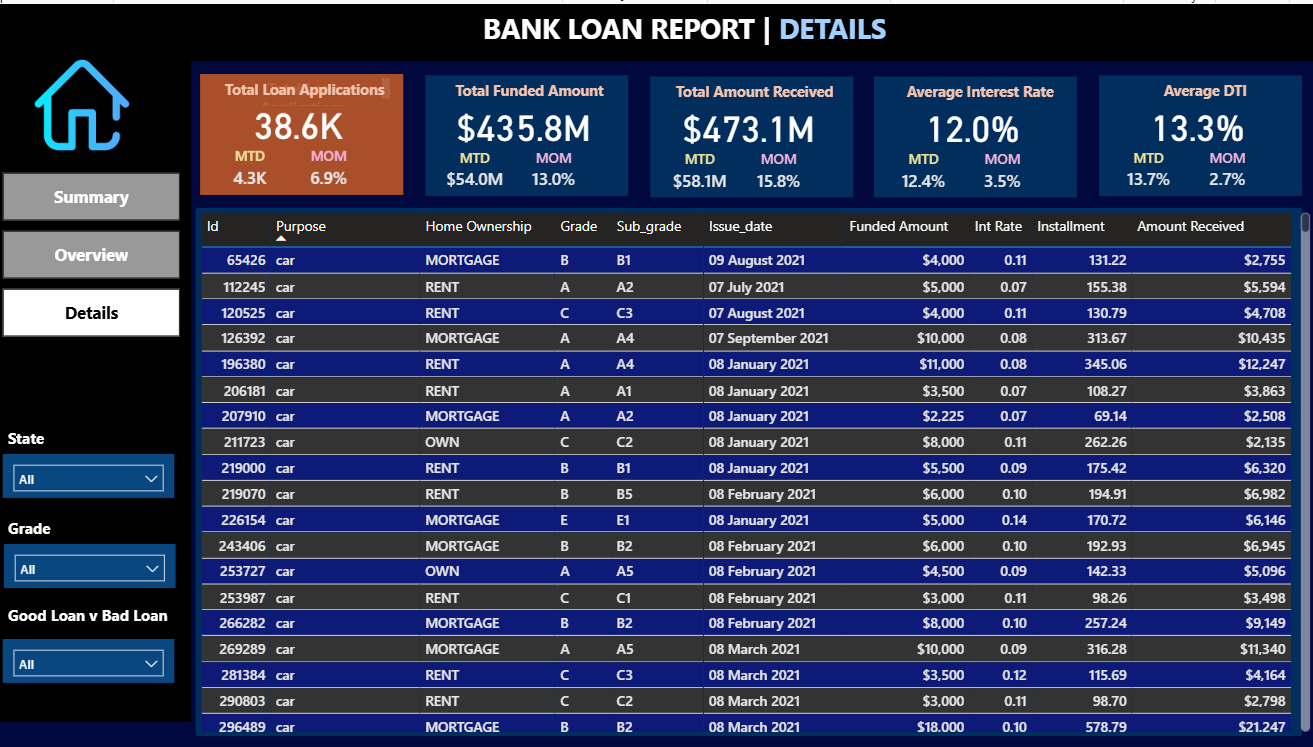

Layout of this report page (visuals, bound fields, positions):
{"tool":"powerbi","page":{"name":"Details","canvas":[1280,720],"ordinal":2},"visuals":[{"type":"shape","box":[0,0,1280.6,55.6],"z":0},{"type":"shape","box":[0,27.7,195.4,664.7],"z":1000},{"type":"textbox","box":[464.5,0,462.1,47.1],"z":2000},{"type":"group","id":"g1","title":"Group 1","box":[203.9,66.9,195.8,117.3],"z":3000},{"type":"shape","box":[203.9,67.6,195.8,116.7],"z":3000,"group":"g1"},{"type":"shape","box":[203.9,67.6,195.8,116.7],"z":3000,"group":"g6"},{"type":"shape","box":[420.7,68.8,195.8,116.7],"z":3000,"group":"g2"},{"type":"shape","box":[1071.3,68.8,195.8,116.7],"z":3000,"group":"g5"},{"type":"shape","box":[637.6,70,195.8,116.7],"z":3000,"group":"g3"},{"type":"shape","box":[854.5,70,195.8,116.7],"z":3000,"group":"g4"},{"type":"group","id":"g2","title":"Group 1","box":[420.7,68.8,196.6,117],"z":4000},{"type":"card","fields":{"Values":["banking_loan.Total Loan Applications"]},"box":[217.8,94,161.1,43.1],"z":4000,"group":"g1"},{"type":"card","fields":{"Values":["banking_loan.Total Loan Applications"]},"box":[217.8,94,161.1,43.1],"z":4000,"group":"g6"},{"type":"card","fields":{"Values":["banking_loan.Total Funded Amount"]},"box":[434.6,95.2,161.1,43.1],"z":4000,"group":"g2"},{"type":"card","fields":{"Values":["banking_loan.Average Dti"]},"box":[1085.2,95.2,161.1,43.1],"z":4000,"group":"g5"},{"type":"card","fields":{"Values":["banking_loan.Total Amount Received"]},"box":[651.5,96.4,161.1,43.1],"z":4000,"group":"g3"},{"type":"card","fields":{"Values":["banking_loan.Avg Interest Rate"]},"box":[868.4,96.4,161.1,43.1],"z":4000,"group":"g4"},{"type":"textbox","box":[220.9,66.9,171.3,37.4],"z":5000,"group":"g1"},{"type":"textbox","box":[217.8,67.6,172.2,37.5],"z":5000,"group":"g6"},{"type":"textbox","box":[434.6,68.8,172.2,37.5],"z":5000,"group":"g2"},{"type":"textbox","box":[1085.2,68.8,172.2,37.5],"z":5000,"group":"g5"},{"type":"textbox","box":[651.5,70,172.2,37.5],"z":5000,"group":"g3"},{"type":"textbox","box":[868.4,70,172.2,37.5],"z":5000,"group":"g4"},{"type":"shape","box":[199.1,196.6,1068.9,510.3],"z":5000},{"type":"group","id":"g3","title":"Group 1","box":[637.6,70,196.6,117],"z":6000},{"type":"card","title":"MTD","fields":{"Values":["banking_loan.MTD Loan Applications"]},"box":[217.8,137,66.7,47.2],"z":6000,"group":"g1"},{"type":"card","title":"MTD","fields":{"Values":["banking_loan.MTD Loan Applications"]},"box":[217.8,137,66.7,47.2],"z":6000,"group":"g6"},{"type":"card","title":"MTD","fields":{"Values":["banking_loan.MTD Funded Amount"]},"box":[434.6,138.2,66.7,47.2],"z":6000,"group":"g2"},{"type":"card","title":"MTD","fields":{"Values":["banking_loan.MTD Avg Dti"]},"box":[1085.2,138.2,66.7,47.2],"z":6000,"group":"g5"},{"type":"card","title":"MTD","fields":{"Values":["banking_loan.MTD Total Amount Received"]},"box":[651.5,139.4,66.7,47.2],"z":6000,"group":"g3"},{"type":"card","title":"MTD","fields":{"Values":["banking_loan.MTD Avg Interest Rate"]},"box":[868.4,139.4,66.7,47.2],"z":6000,"group":"g4"},{"type":"group","id":"g4","title":"Group 1","box":[854.5,70,196.6,117],"z":7000},{"type":"card","title":"MOM","fields":{"Values":["banking_loan.MOM Loan Applications"]},"box":[298.3,137,59.7,47.2],"z":7000,"group":"g1"},{"type":"card","title":"MOM","fields":{"Values":["banking_loan.MOM Loan Applications"]},"box":[298.3,137,59.7,47.2],"z":7000,"group":"g6"},{"type":"card","title":"MOM","fields":{"Values":["banking_loan.MOM Funded Amount"]},"box":[515.1,138.2,59.7,47.2],"z":7000,"group":"g2"},{"type":"card","title":"MOM","fields":{"Values":["banking_loan.MOM Avg Dti"]},"box":[1165.7,138.2,59.7,47.2],"z":7000,"group":"g5"},{"type":"card","title":"MOM","fields":{"Values":["banking_loan.MOM Total Amount Received"]},"box":[732,139.4,59.7,47.2],"z":7000,"group":"g3"},{"type":"card","title":"MOM","fields":{"Values":["banking_loan.MOM Avg Interest Rate"]},"box":[948.9,139.4,59.7,47.2],"z":7000,"group":"g4"},{"type":"group","id":"g5","title":"Group 1","box":[1071.3,68.8,196.6,117],"z":8000},{"type":"group","id":"g6","title":"Group 1","box":[203.9,67.6,196.6,117],"z":9000},{"type":"textbox","box":[13.3,404.2,127.9,30.2],"z":10000},{"type":"slicer","fields":{"Values":["banking_loan.address_state"]},"box":[13.3,434.3,165.3,42.2],"z":11000},{"type":"slicer","fields":{"Values":["banking_loan.grade"]},"box":[14.5,521.2,165.3,42.2],"z":12000},{"type":"textbox","box":[13.3,491,142.4,41],"z":13000},{"type":"slicer","fields":{"Values":["banking_loan.Good vs Bad Loan"]},"box":[13.3,612.9,165.3,42.2],"z":14000},{"type":"textbox","box":[13.3,574.3,165.3,50.7],"z":15000},{"type":"tableEx","fields":{"Values":["banking_loan.id","banking_loan.purpose","banking_loan.home_ownership","banking_loan.grade","banking_loan.sub_grade","banking_loan.issue_date","banking_loan.Total Funded Amount","Sum(banking_loan.int_rate)","Sum(banking_loan.installment)","banking_loan.Total Amount Received"]},"box":[199.1,196.6,1081,510.3],"z":16000},{"type":"pageNavigator","box":[13.3,162.9,171.3,159.3],"z":17000},{"type":"image","box":[24.1,47.1,131.5,101.3],"z":18000}]}

Visuals, with their boxes in screenshot pixels (x1, y1, x2, y2), scaled from the page's 1280x720 canvas onto the 1313x747 screenshot:
shape: bbox=[0, 0, 1312, 58]
shape: bbox=[0, 29, 200, 718]
textbox: bbox=[476, 0, 950, 49]
"Group 1" group: bbox=[209, 69, 410, 191]
shape: bbox=[209, 70, 410, 191]
shape: bbox=[209, 70, 410, 191]
shape: bbox=[432, 71, 632, 192]
shape: bbox=[1099, 71, 1300, 192]
shape: bbox=[654, 73, 855, 194]
shape: bbox=[877, 73, 1077, 194]
"Group 1" group: bbox=[432, 71, 633, 193]
card - banking_loan.Total Loan Applications: bbox=[223, 98, 389, 142]
card - banking_loan.Total Loan Applications: bbox=[223, 98, 389, 142]
card - banking_loan.Total Funded Amount: bbox=[446, 99, 611, 143]
card - banking_loan.Average Dti: bbox=[1113, 99, 1278, 143]
card - banking_loan.Total Amount Received: bbox=[668, 100, 834, 145]
card - banking_loan.Avg Interest Rate: bbox=[891, 100, 1056, 145]
textbox: bbox=[227, 69, 402, 108]
textbox: bbox=[223, 70, 400, 109]
textbox: bbox=[446, 71, 622, 110]
textbox: bbox=[1113, 71, 1290, 110]
textbox: bbox=[668, 73, 845, 112]
textbox: bbox=[891, 73, 1067, 112]
shape: bbox=[204, 204, 1301, 733]
"Group 1" group: bbox=[654, 73, 856, 194]
"MTD" card: bbox=[223, 142, 292, 191]
"MTD" card: bbox=[223, 142, 292, 191]
"MTD" card: bbox=[446, 143, 514, 192]
"MTD" card: bbox=[1113, 143, 1182, 192]
"MTD" card: bbox=[668, 145, 737, 194]
"MTD" card: bbox=[891, 145, 959, 194]
"Group 1" group: bbox=[877, 73, 1078, 194]
"MOM" card: bbox=[306, 142, 367, 191]
"MOM" card: bbox=[306, 142, 367, 191]
"MOM" card: bbox=[528, 143, 590, 192]
"MOM" card: bbox=[1196, 143, 1257, 192]
"MOM" card: bbox=[751, 145, 812, 194]
"MOM" card: bbox=[973, 145, 1035, 194]
"Group 1" group: bbox=[1099, 71, 1301, 193]
"Group 1" group: bbox=[209, 70, 411, 192]
textbox: bbox=[14, 419, 145, 451]
slicer - banking_loan.address_state: bbox=[14, 451, 183, 494]
slicer - banking_loan.grade: bbox=[15, 541, 184, 585]
textbox: bbox=[14, 509, 160, 552]
slicer - banking_loan.Good vs Bad Loan: bbox=[14, 636, 183, 680]
textbox: bbox=[14, 596, 183, 648]
tableEx - banking_loan.id x banking_loan.purpose: bbox=[204, 204, 1312, 733]
pageNavigator: bbox=[14, 169, 189, 334]
image: bbox=[25, 49, 160, 154]
